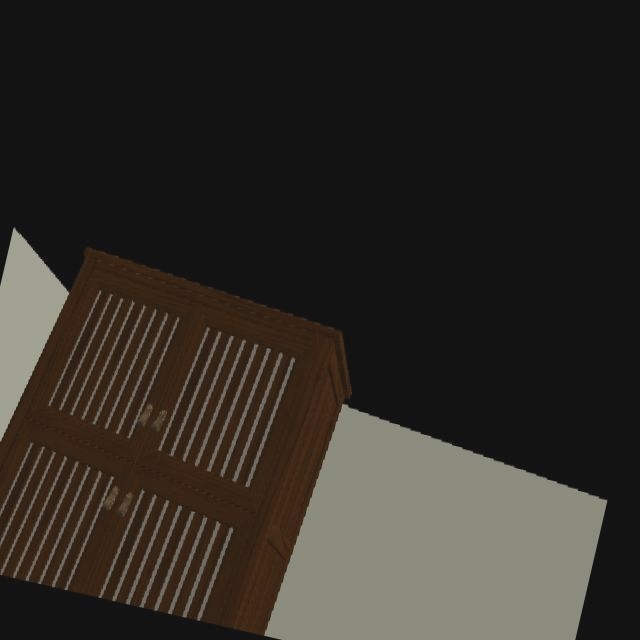wardrobe: (0, 249, 352, 635)
